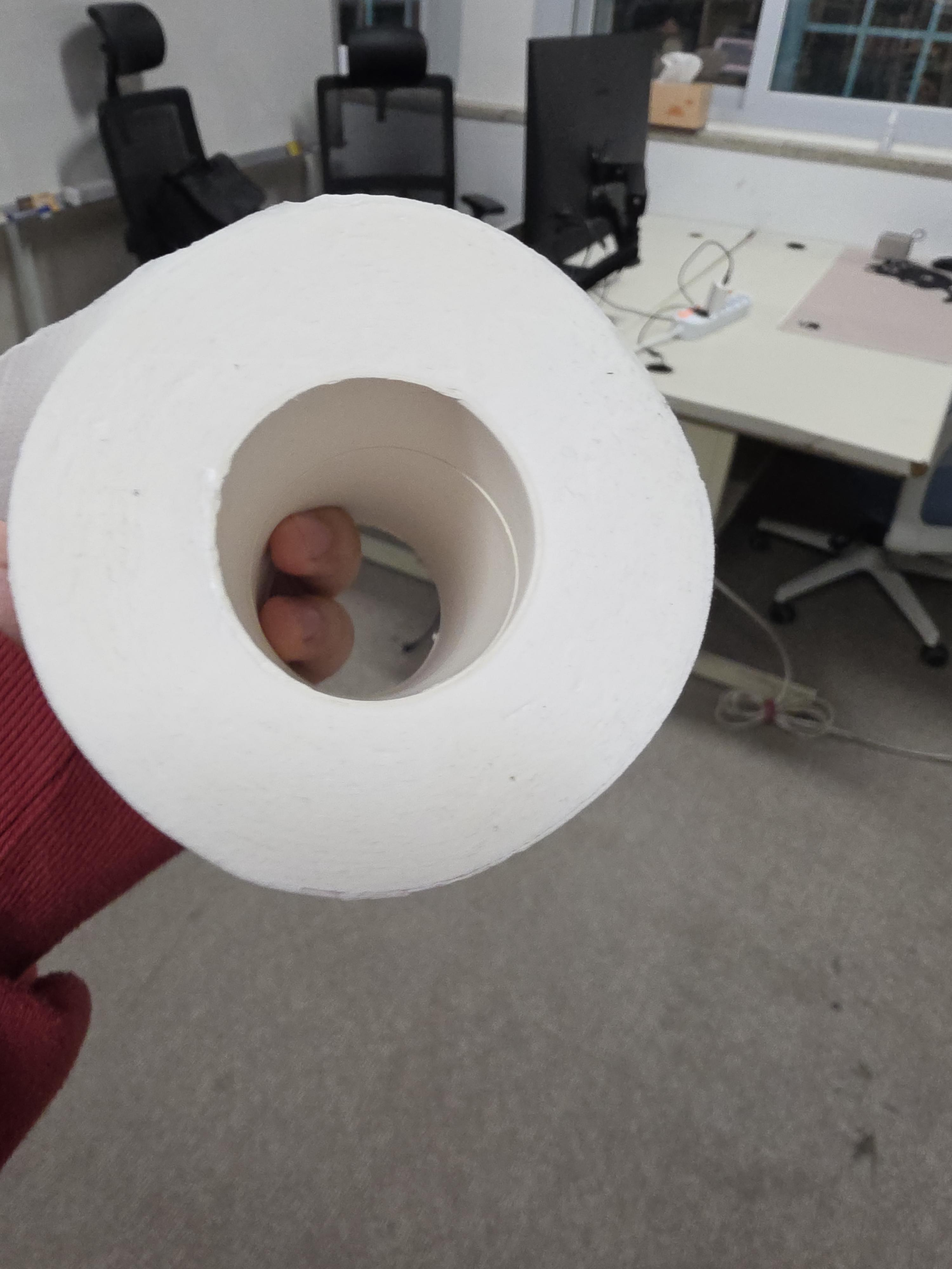tissue: (0, 193, 717, 900), (649, 51, 712, 131)
